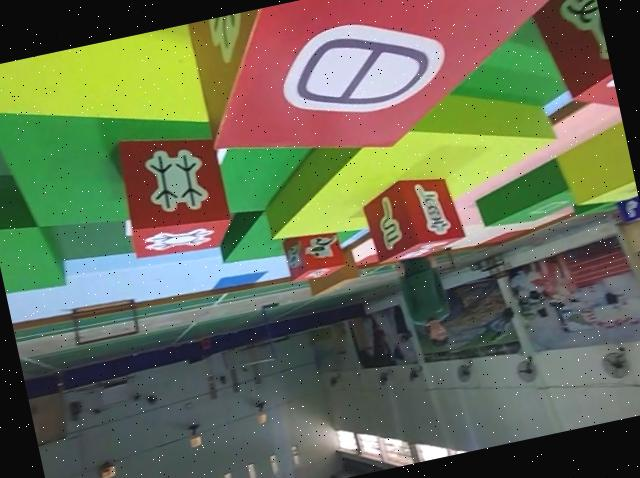R1: (357, 170, 465, 266), (280, 227, 346, 282)
R2 Fake: (186, 0, 586, 182)
R2 Real: (109, 123, 236, 264)
